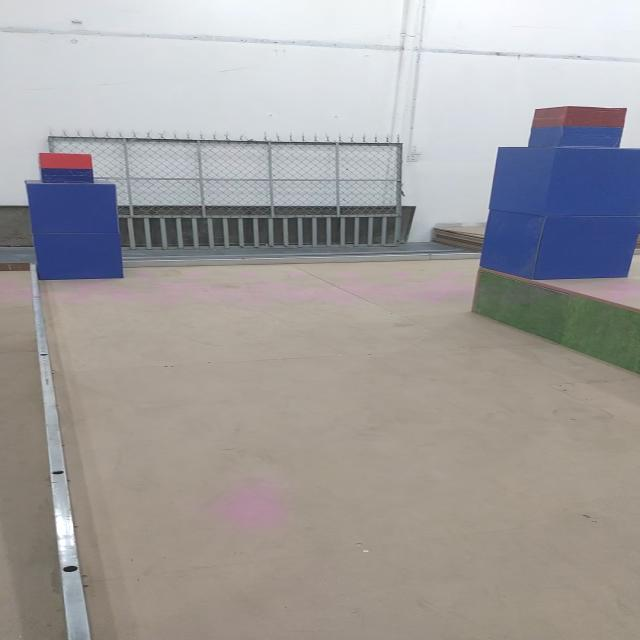earth_block: (490, 147, 640, 217), (28, 233, 130, 282), (24, 184, 121, 234)
sky_block: (528, 105, 630, 148), (36, 152, 98, 184)
